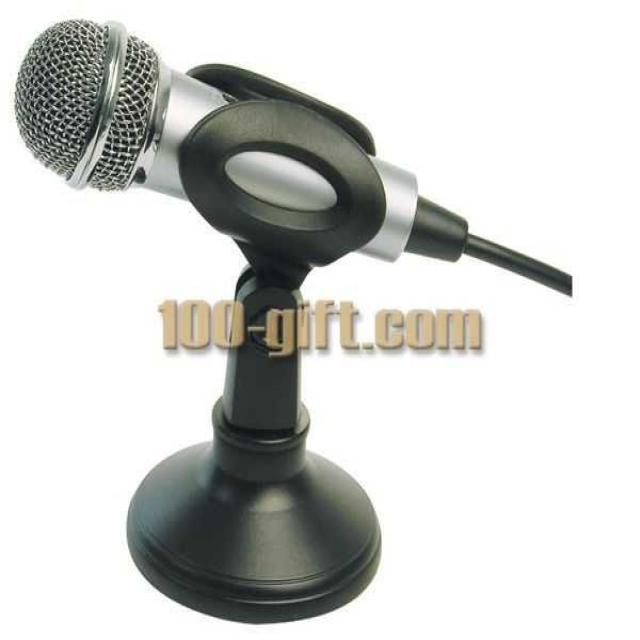microphone: (10, 15, 499, 302)
